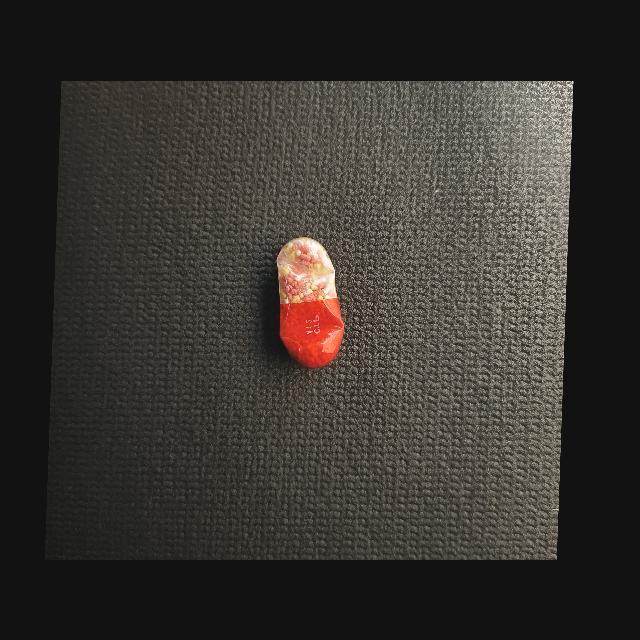Defective Capsule: (276, 236, 344, 368)
